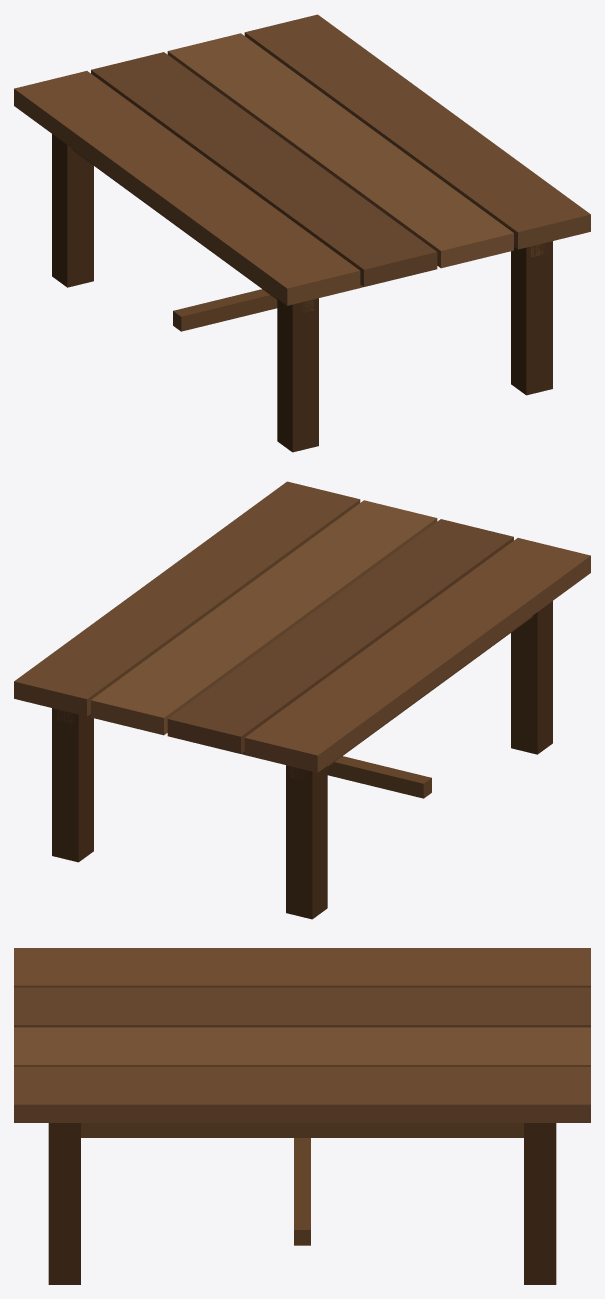
Rendered from table.glb.
3 views of the same model, one above another, from view 1: azimuth 30°, elevation 25°; view 2: azimuth 150°, elevation 25°; view 3: azimuth 270°, elevation 25° (orthographic). The views are drawn at different scales.
Visible parts, largest first — view 1: table; view 2: table; view 3: table.
Boxes of the visible parts, box(x1,y1,x2,y2) form: table: box(14, 14, 590, 452); table: box(14, 481, 590, 919); table: box(14, 948, 590, 1284).
Size of the model in its own units: 0.642 by 0.366 by 1.
